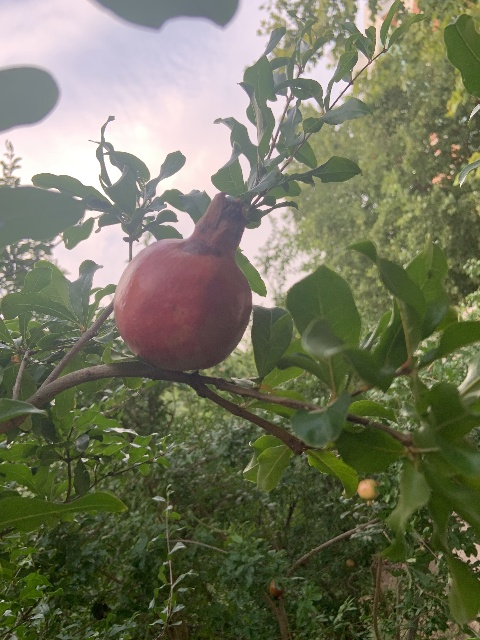mid-growth: (357, 479, 379, 506)
ripe: (113, 191, 252, 370)
